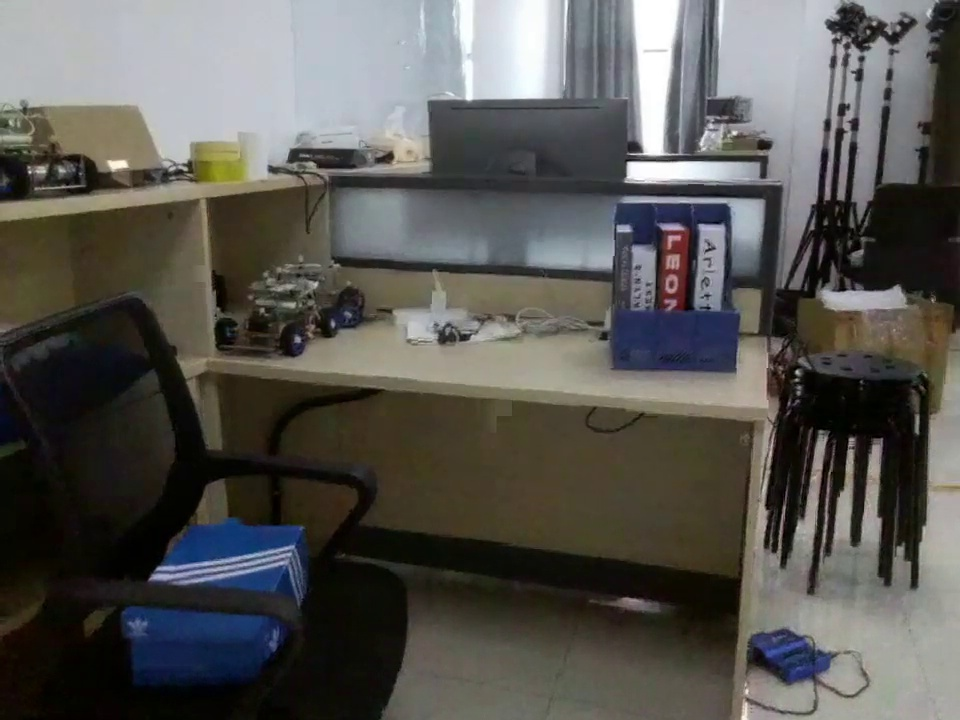files: (607, 197, 742, 377)
